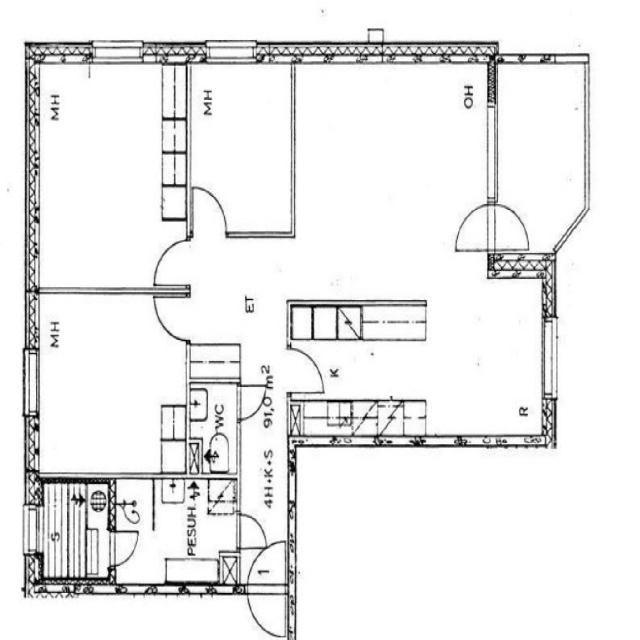door: (247, 534, 286, 594), (247, 584, 285, 640), (453, 204, 497, 250), (488, 204, 532, 250), (152, 240, 190, 285), (152, 296, 190, 341), (192, 189, 225, 237), (288, 349, 323, 393), (108, 532, 141, 566), (236, 386, 265, 420), (236, 515, 265, 548)
